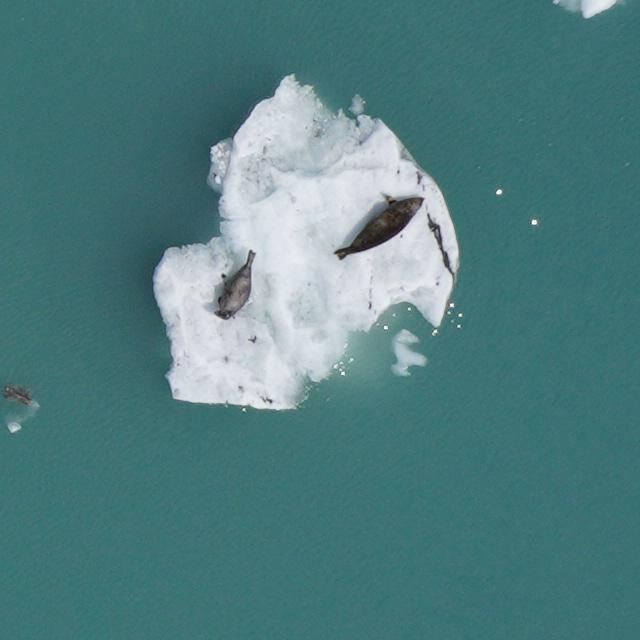seal: (333, 174, 426, 281), (214, 245, 260, 325)
